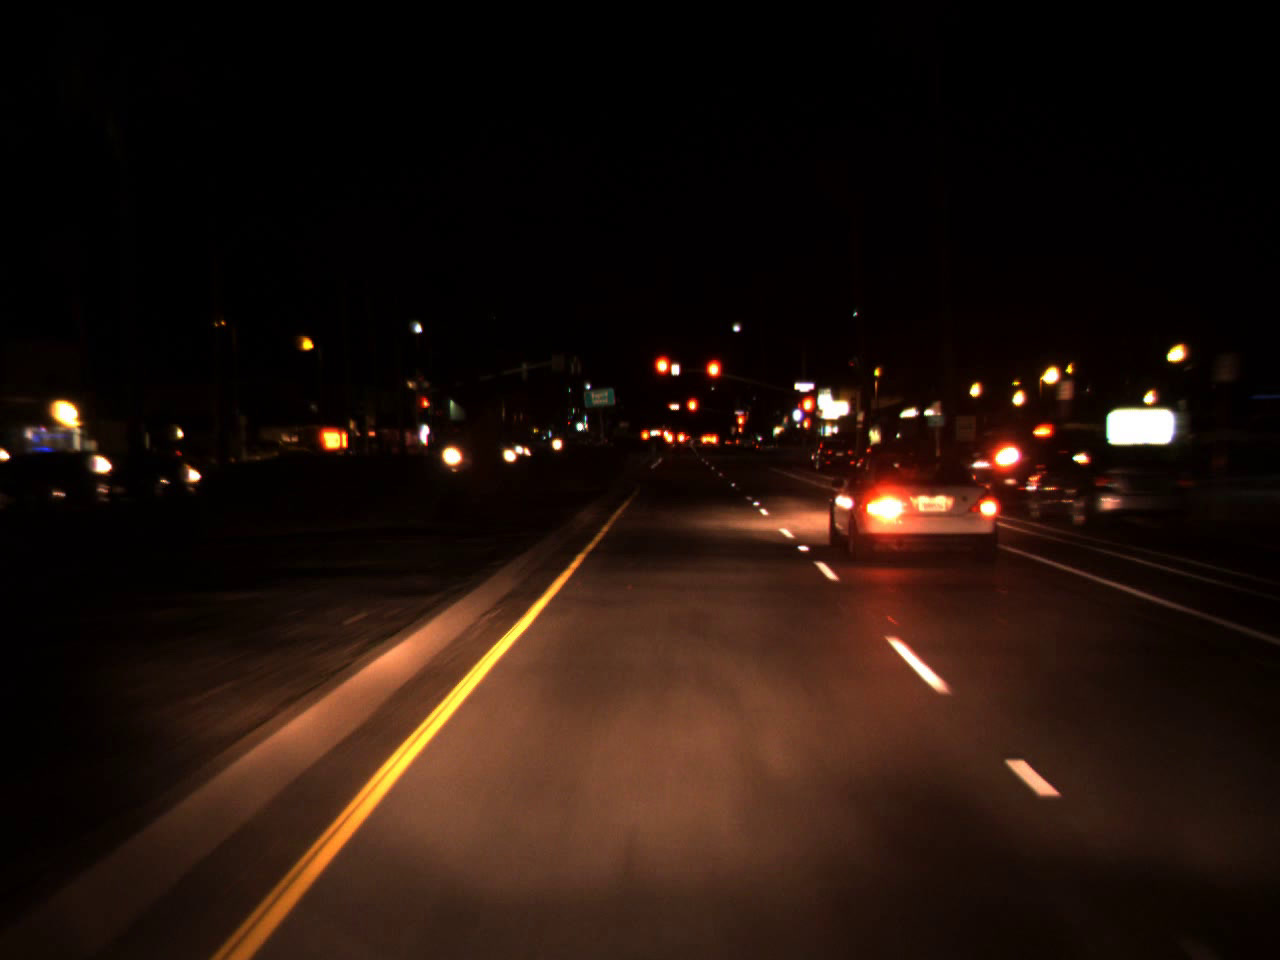stop: (652, 352, 673, 397), (703, 357, 722, 400), (799, 393, 817, 433), (686, 397, 698, 424), (736, 412, 746, 441), (420, 395, 430, 422)
